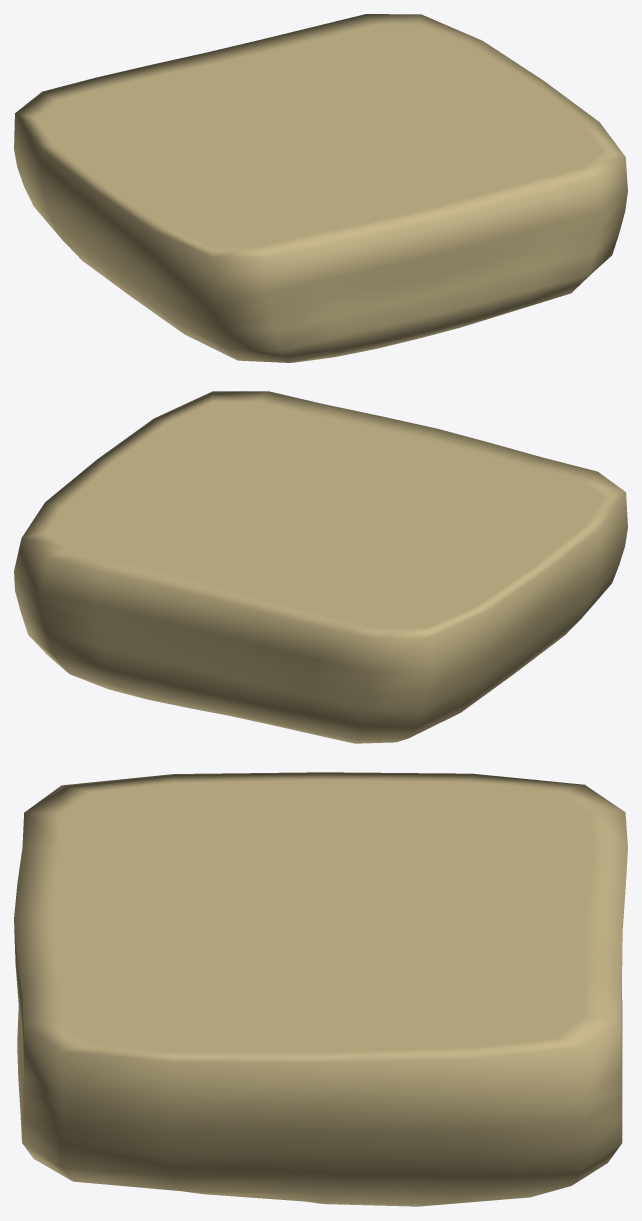
File: islandSmoothed.dae
3 views of the same model, one above another, from view 1: azimuth 30°, elevation 25°; view 2: azimuth 150°, elevation 25°; view 3: azimuth 270°, elevation 25° (orthographic). The views are drawn at different scales.
Visible parts, largest first — view 1: island; view 2: island; view 3: island.
Part boxes in pixels (x1,y1,x2,y2): island: (14, 14, 627, 362); island: (14, 391, 627, 743); island: (14, 772, 627, 1206).
Bounding box in the file's own units: 12.94 × 4.88 × 11.57.
